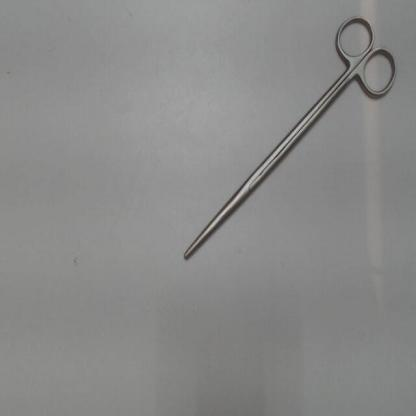9 Metzenbaum Scissors: (181, 8, 401, 264)
